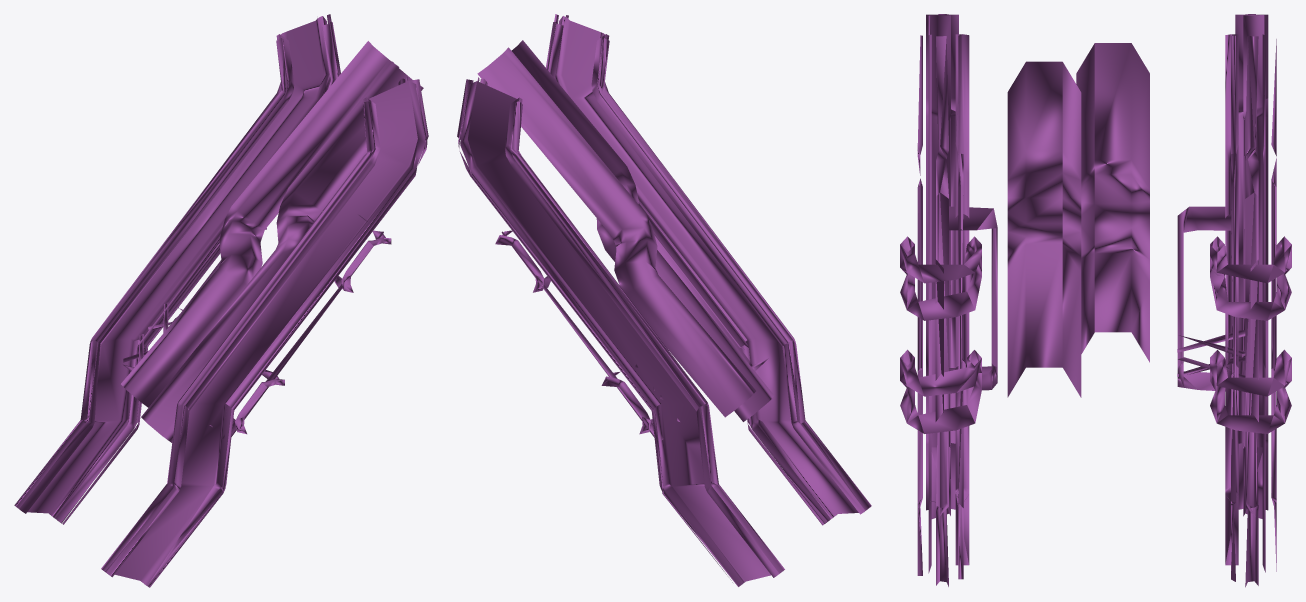
The model's file is backdrop_lpad_support_a_lod2.glb.
The picture shows the model from 3 angles, left to right: view 1: azimuth 30°, elevation 25°; view 2: azimuth 150°, elevation 25°; view 3: azimuth 270°, elevation 25°; orthographic projection. The views are drawn at different scales.
Size of the model in its own units: 188 by 230 by 104.
